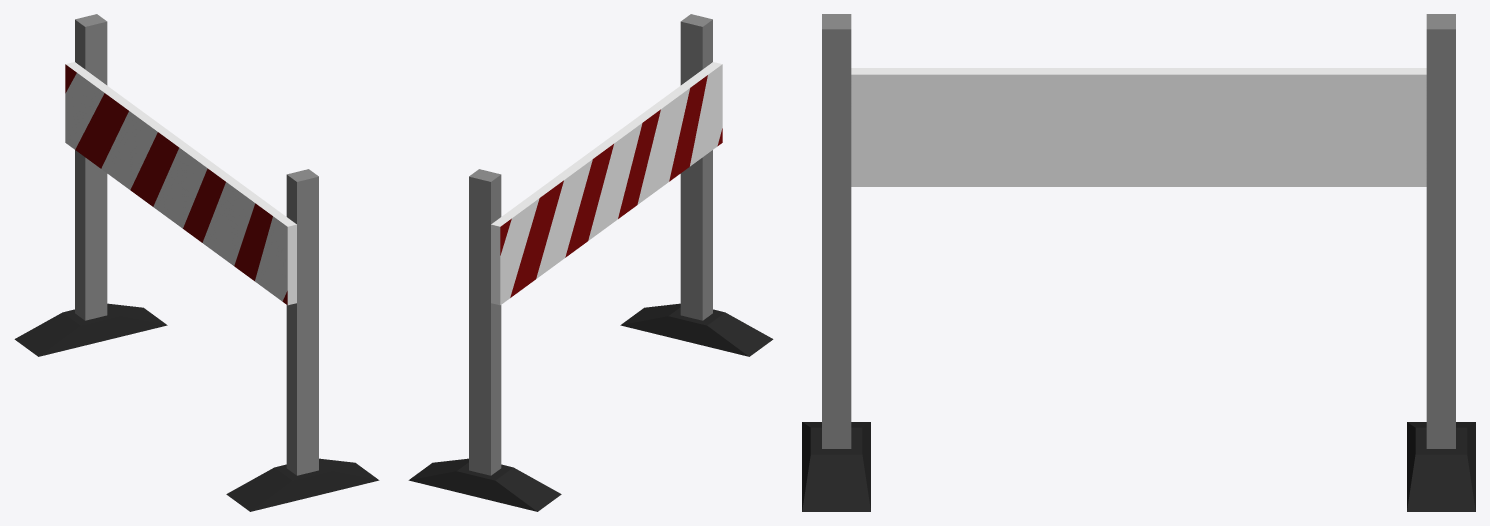
File: barraRoja.fbx
3 views of the same model, side by side, from view 1: azimuth 30°, elevation 25°; view 2: azimuth 150°, elevation 25°; view 3: azimuth 270°, elevation 25° (orthographic). The views are drawn at different scales.
Visible parts, largest first — view 1: Road Closed-03; view 2: Road Closed-03; view 3: Road Closed-03.
Part boxes in pixels (<box>): Road Closed-03: <box>14,14,379,511</box>; Road Closed-03: <box>408,14,773,511</box>; Road Closed-03: <box>802,14,1475,511</box>.
Size of the model in its own units: 53.91 by 124 by 170.
1 material, 1 textured.
